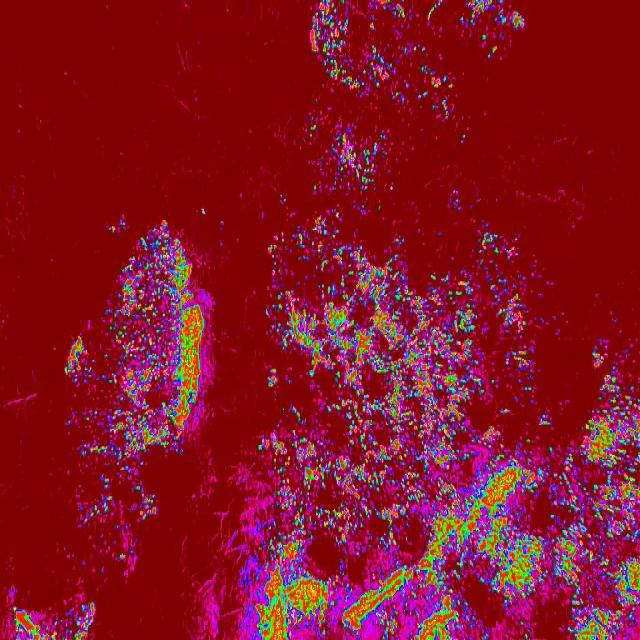fire: (265, 222, 543, 640), (582, 332, 640, 640), (67, 336, 220, 450), (105, 216, 216, 336), (308, 0, 524, 56), (319, 56, 463, 128), (302, 128, 404, 210), (542, 432, 582, 640), (233, 486, 266, 640), (78, 469, 158, 532), (0, 591, 100, 640), (78, 533, 140, 579)
